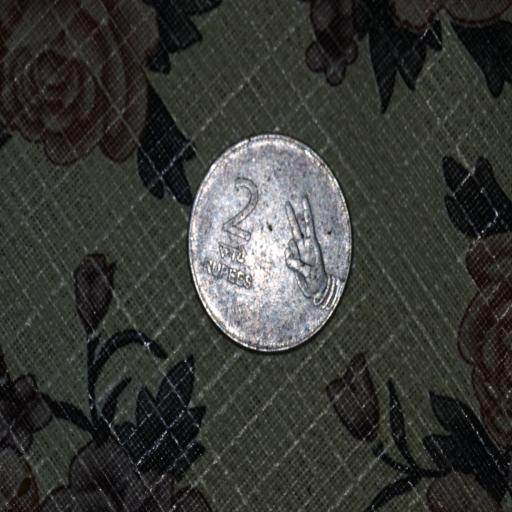rupee2: (185, 136, 349, 350)
